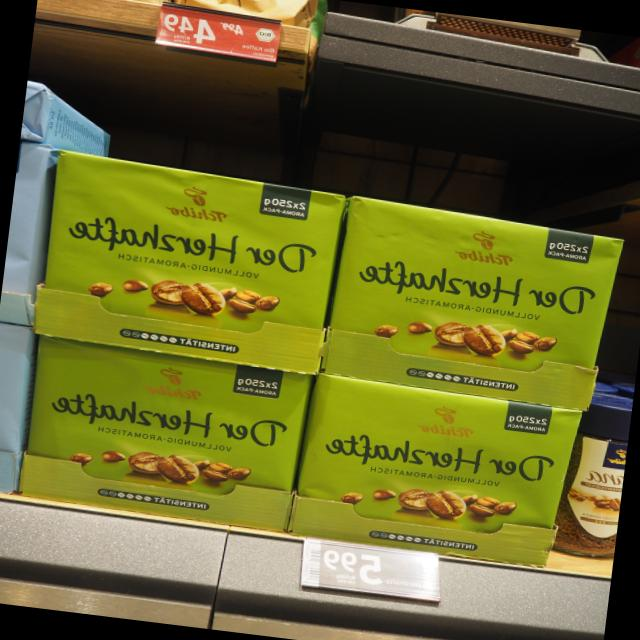Herzhatfe Mundig: (28, 146, 350, 375), (318, 192, 628, 413), (15, 333, 315, 531), (286, 373, 584, 570)
